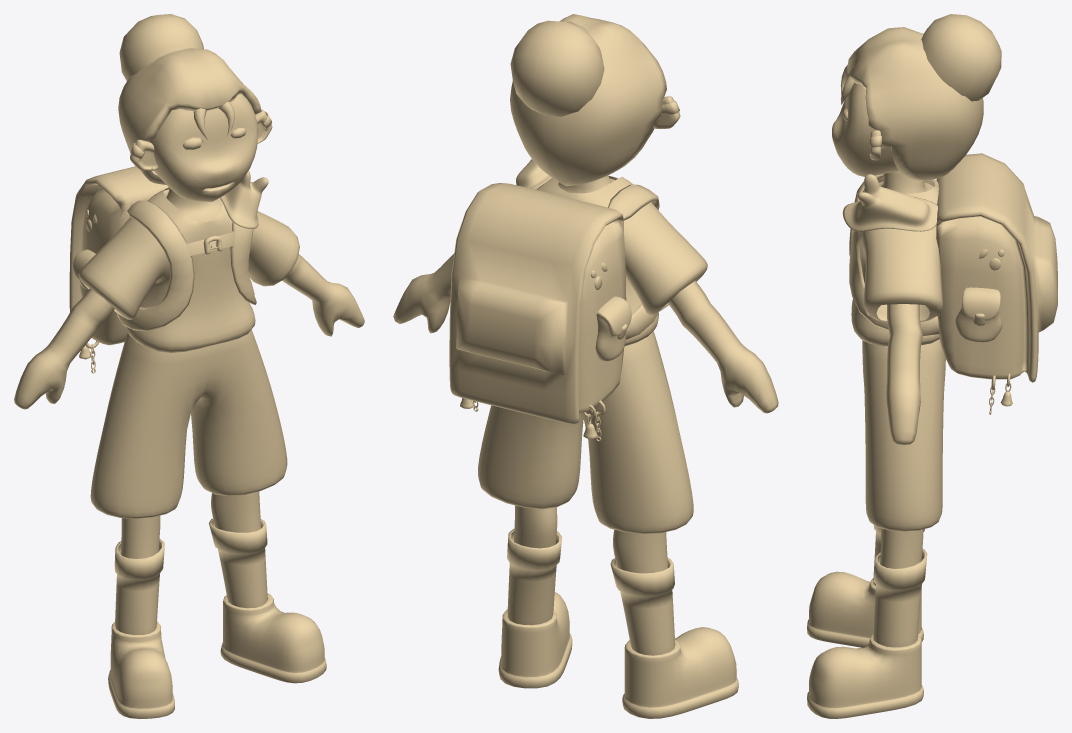
File: PersoPainterProut.fbx
3 renders of one model, left to right at view 1: azimuth 30°, elevation 25°; view 2: azimuth 150°, elevation 25°; view 3: azimuth 270°, elevation 25°, orthographic. The views are drawn at different scales.
Visible parts, largest first — view 1: Cube; view 2: Cube; view 3: Cube.
Part boxes in pixels (bbox=[...]): Cube: bbox=[14, 14, 364, 718]; Cube: bbox=[393, 14, 778, 718]; Cube: bbox=[807, 14, 1057, 718].
Bounding box in the file's own units: 156 × 272 × 94.91.
